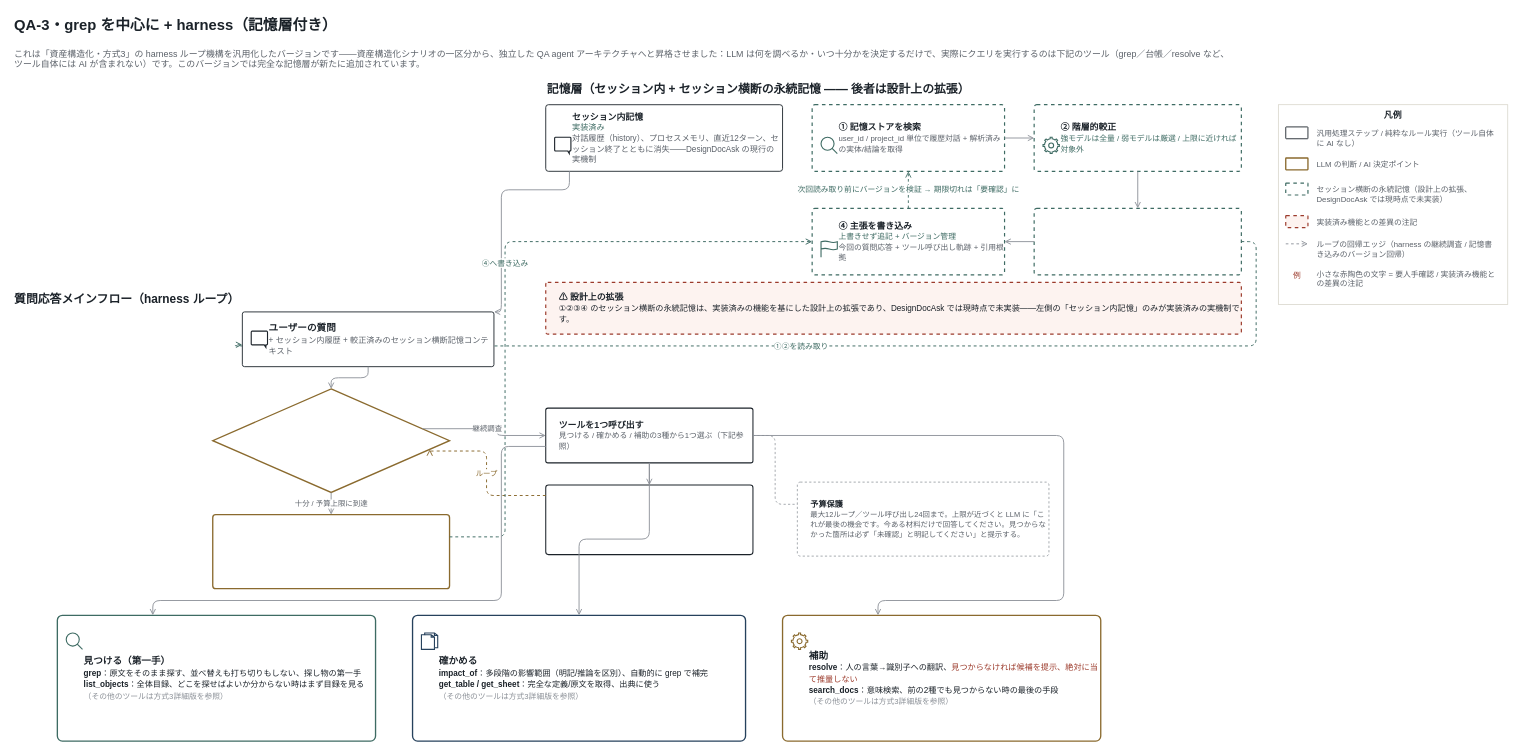
The diagram is 1521 pixels wide and 754 high, and some of its shapes have lost their labels. Each missing label, with the centre of its shape:
LLM の判断 材料は揃ったか？さらに調べる必要があるか？: pixel 331 440
③ タスク実行 下方のメインフロー（harness ループ）へ接続: pixel 1137 241
最終回答を生成 出典を添付；明記／推論／「未確認」（見つからなかった箇所）を区別して明示: pixel 331 551
結果を受け取る 純粋なルールが返す JSON——このステップに LLM は関与しない: pixel 649 519
